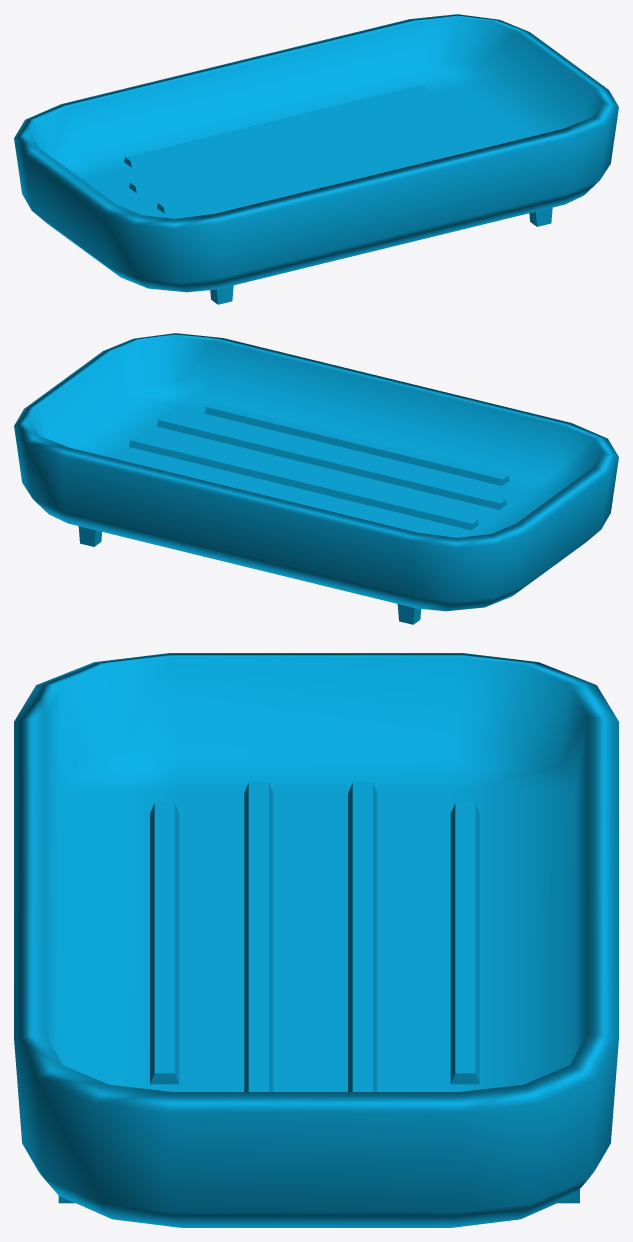
Rendered from Soap_Dish_01_Lod0.fbx.
3 views of the same model, one above another, from view 1: azimuth 30°, elevation 25°; view 2: azimuth 150°, elevation 25°; view 3: azimuth 270°, elevation 25° (orthographic). The views are drawn at different scales.
Visible parts, largest first — view 1: Soap_Dish_01_Lod0; view 2: Soap_Dish_01_Lod0; view 3: Soap_Dish_01_Lod0.
Part boxes in pixels (left/top/right/bottom): Soap_Dish_01_Lod0: left=14, top=14, right=618, bottom=304; Soap_Dish_01_Lod0: left=14, top=333, right=618, bottom=624; Soap_Dish_01_Lod0: left=14, top=653, right=618, bottom=1227.
Size of the model in its own units: 21.63 by 3.89 by 12.01.
